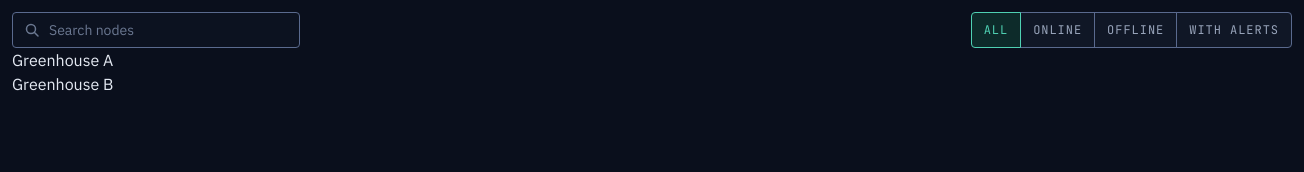
Test: FleetFilters › narrows the visible nodes by a case-insensitive search term
The width and height of the screenshot is (1304, 172).
In the field labelled "Search nodes": (156, 30) x1=12 y1=12 x2=300 y2=48, type "GREENHOUSE a"
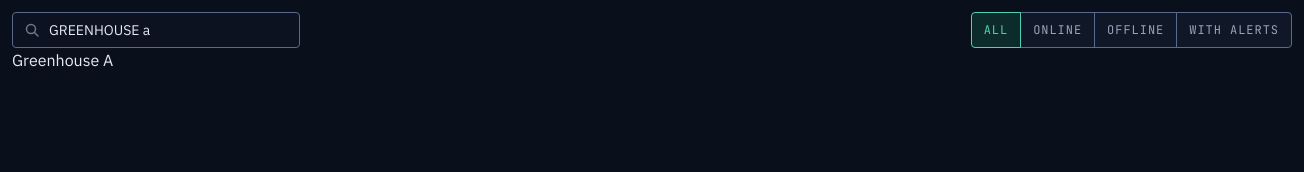
Expected: the list item "Greenhouse A" is shown, x1=12 y1=50 x2=113 y2=70
Now the list item "Greenhouse B" is gone
